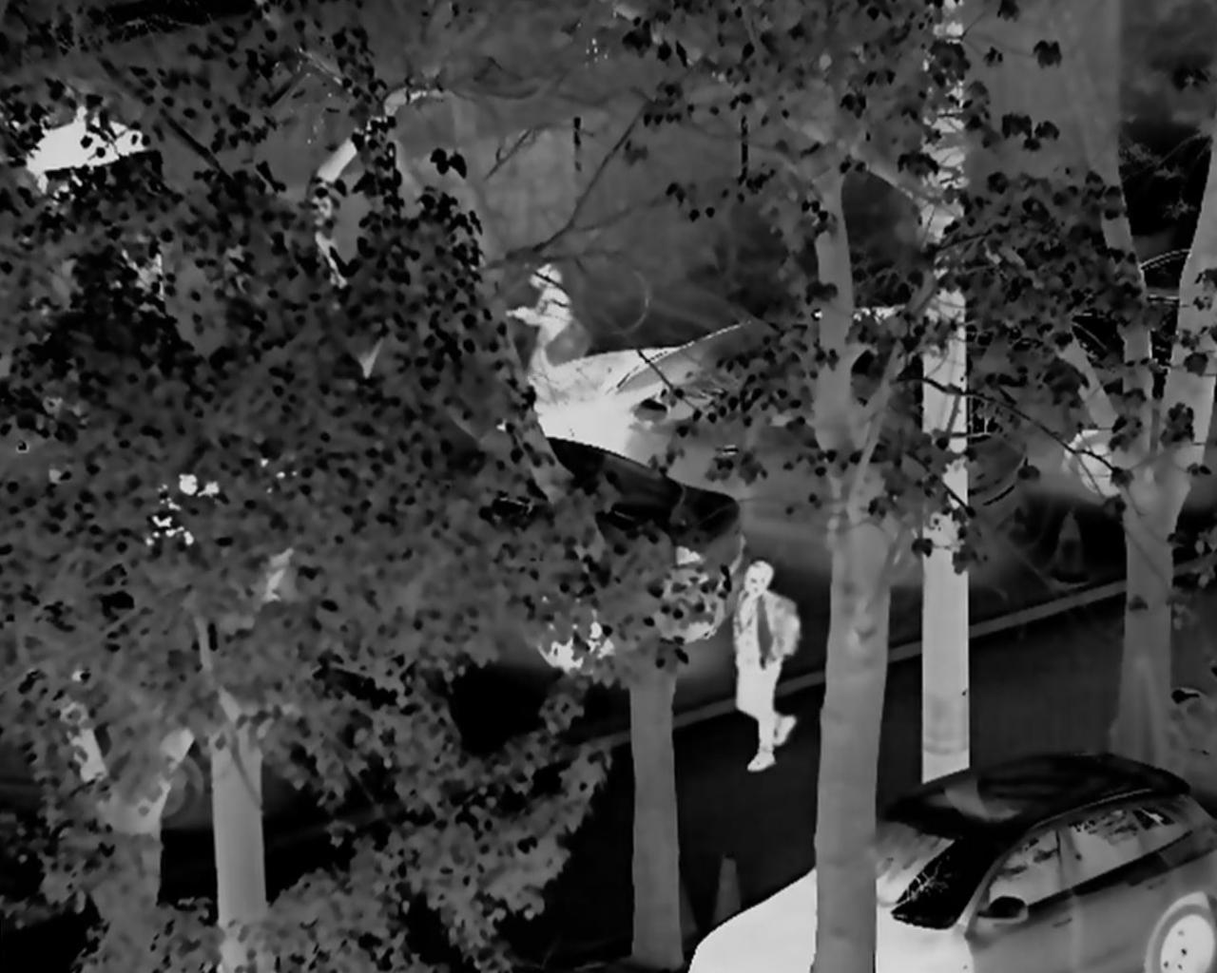person: (719, 560, 796, 790), (504, 263, 584, 382)
